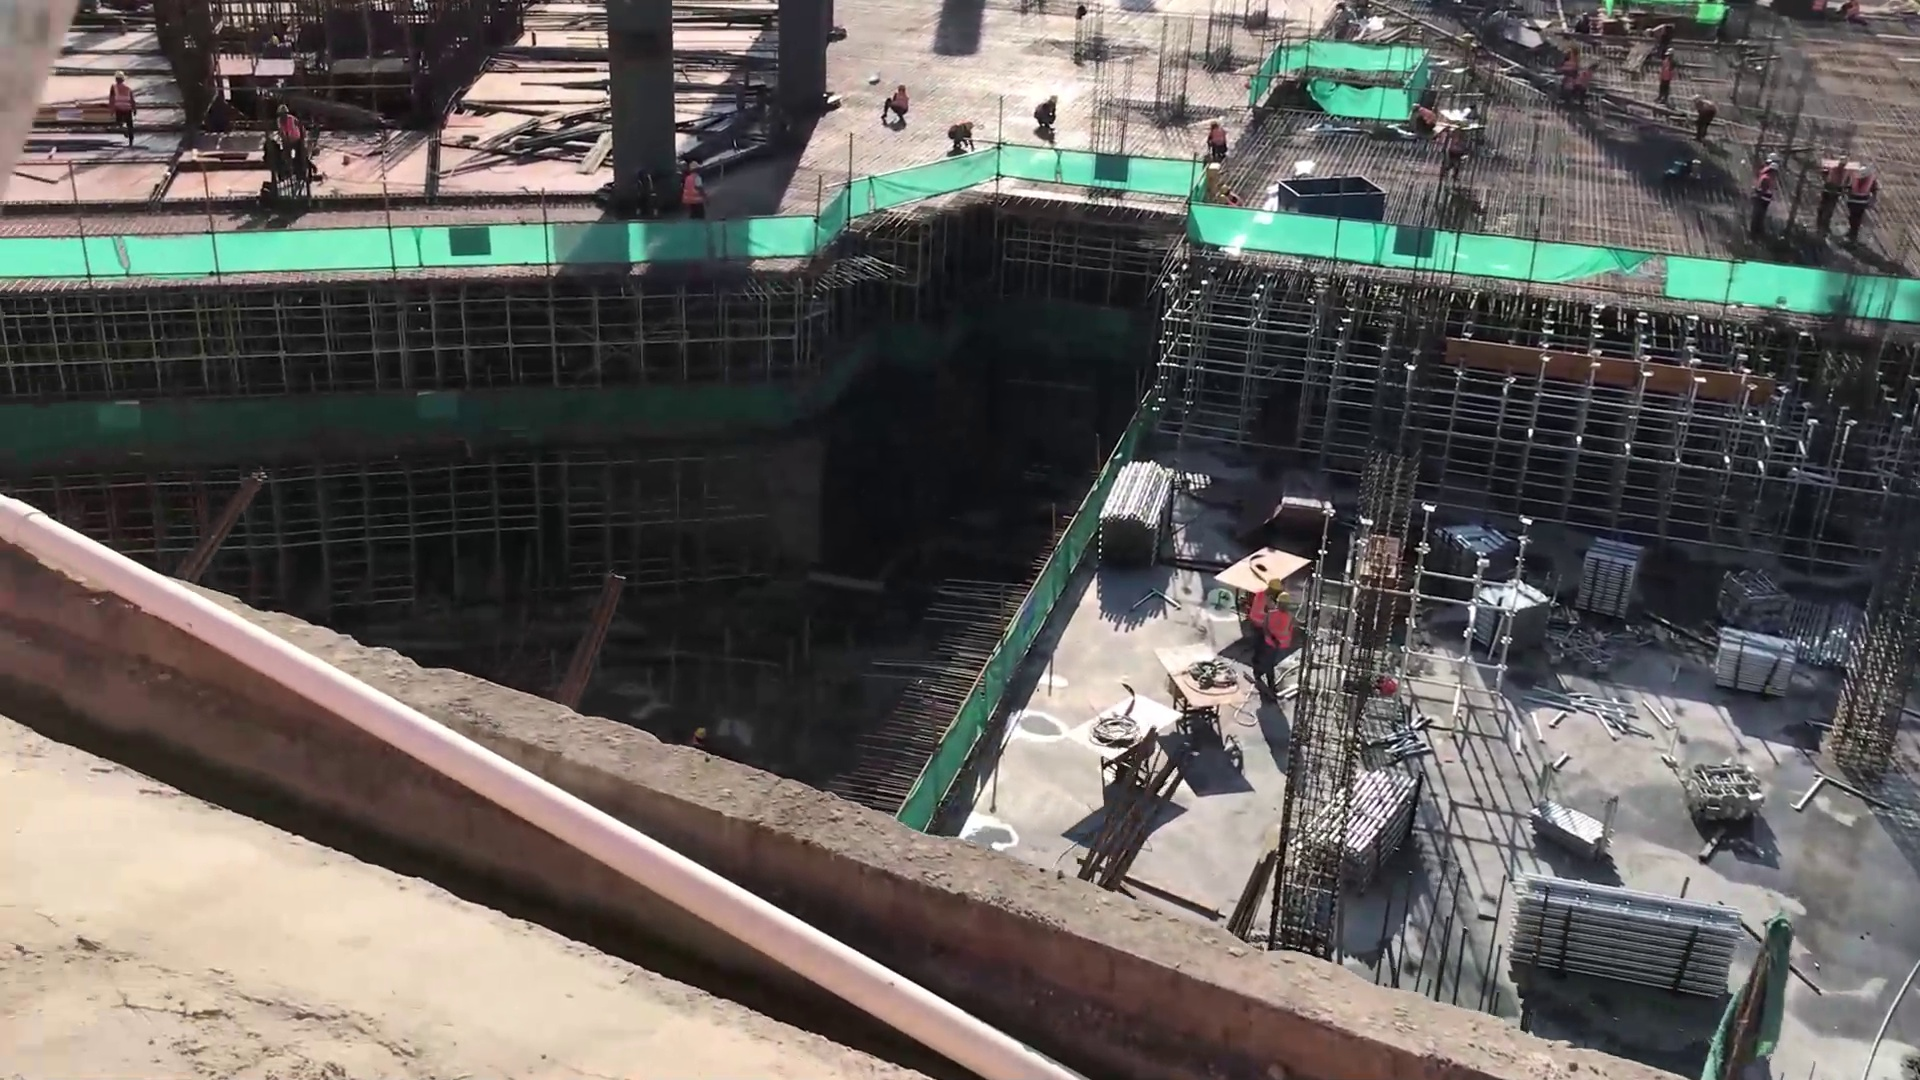person: (1258, 594, 1296, 691), (102, 68, 139, 145), (1243, 577, 1284, 636), (1848, 161, 1877, 241), (1028, 94, 1068, 145), (1752, 161, 1779, 235), (681, 157, 710, 222), (1817, 157, 1840, 229), (1200, 118, 1234, 163), (882, 82, 912, 127), (1690, 90, 1716, 144), (1408, 98, 1440, 140), (942, 118, 978, 153), (1658, 43, 1679, 105), (1441, 120, 1463, 177)
vest: (1265, 606, 1294, 651), (1249, 587, 1272, 626), (680, 174, 706, 207)
